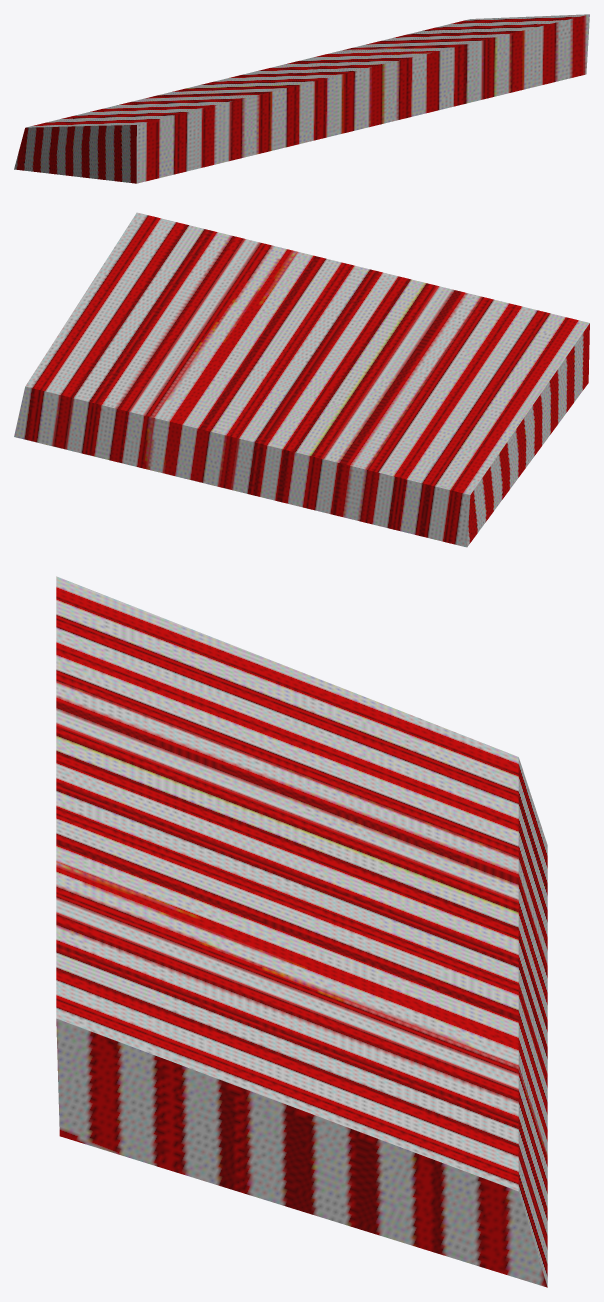
The model's file is canopy.glb.
The picture shows the model from 3 angles, top to bottom: view 1: azimuth 30°, elevation 25°; view 2: azimuth 150°, elevation 25°; view 3: azimuth 270°, elevation 25°; orthographic projection. The views are drawn at different scales.
Parts seen in each view (by area): view 1: Canopy; view 2: Canopy; view 3: Canopy.
Part boxes in pixels (x1,y1,x2,y2): Canopy: (14, 14, 589, 183); Canopy: (14, 212, 589, 547); Canopy: (56, 576, 547, 1287).
Size of what is drawn, in the model's own units: 5.79 by 1.64 by 2.72.
1 material, 1 textured.
